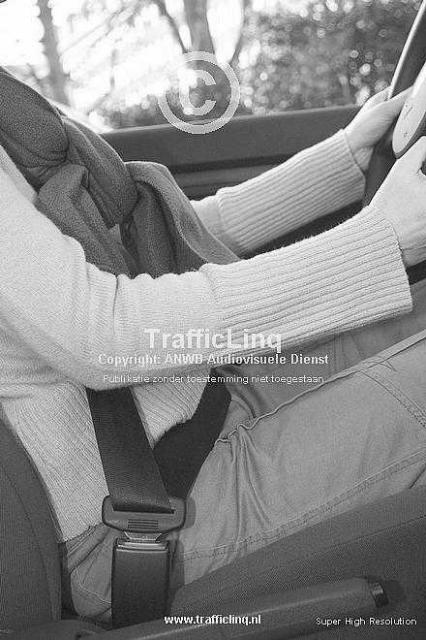Seatbelt: (79, 382, 240, 578)
